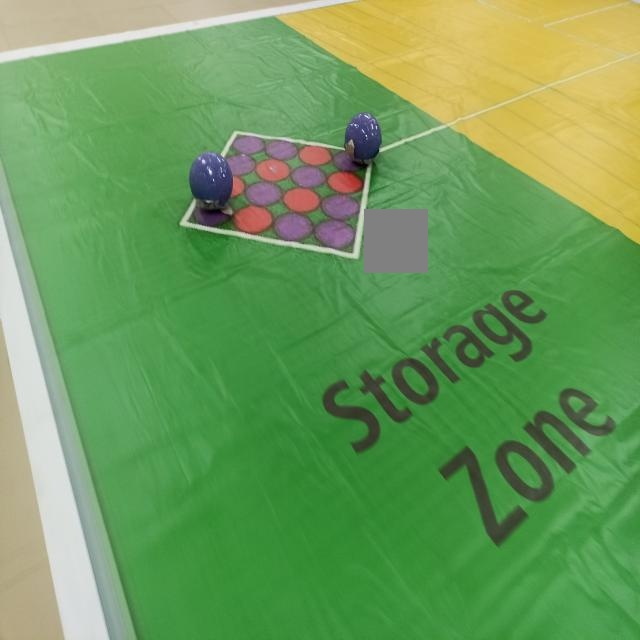purple_ball: (190, 150, 232, 210), (346, 110, 381, 166)
